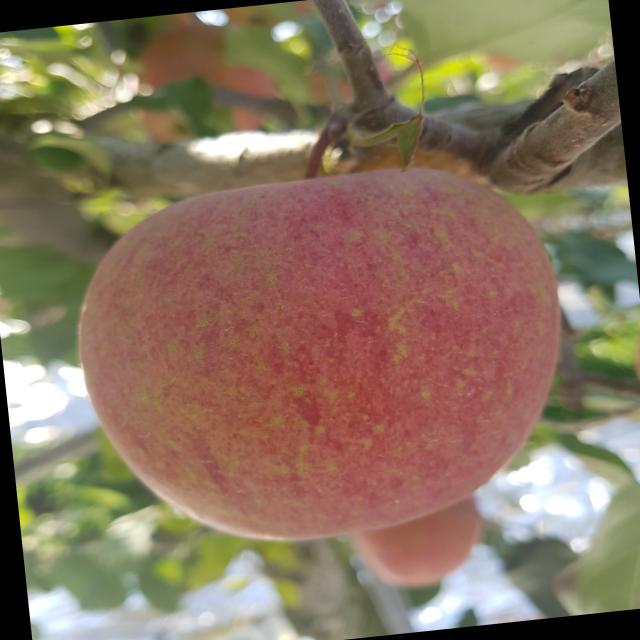fresh: (50, 139, 596, 567)
